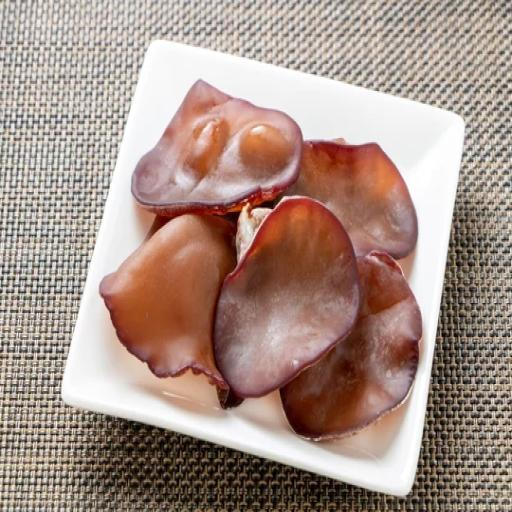mushroom: (216, 197, 359, 397), (284, 256, 423, 453), (97, 211, 238, 403), (137, 71, 303, 214), (289, 124, 427, 256)
